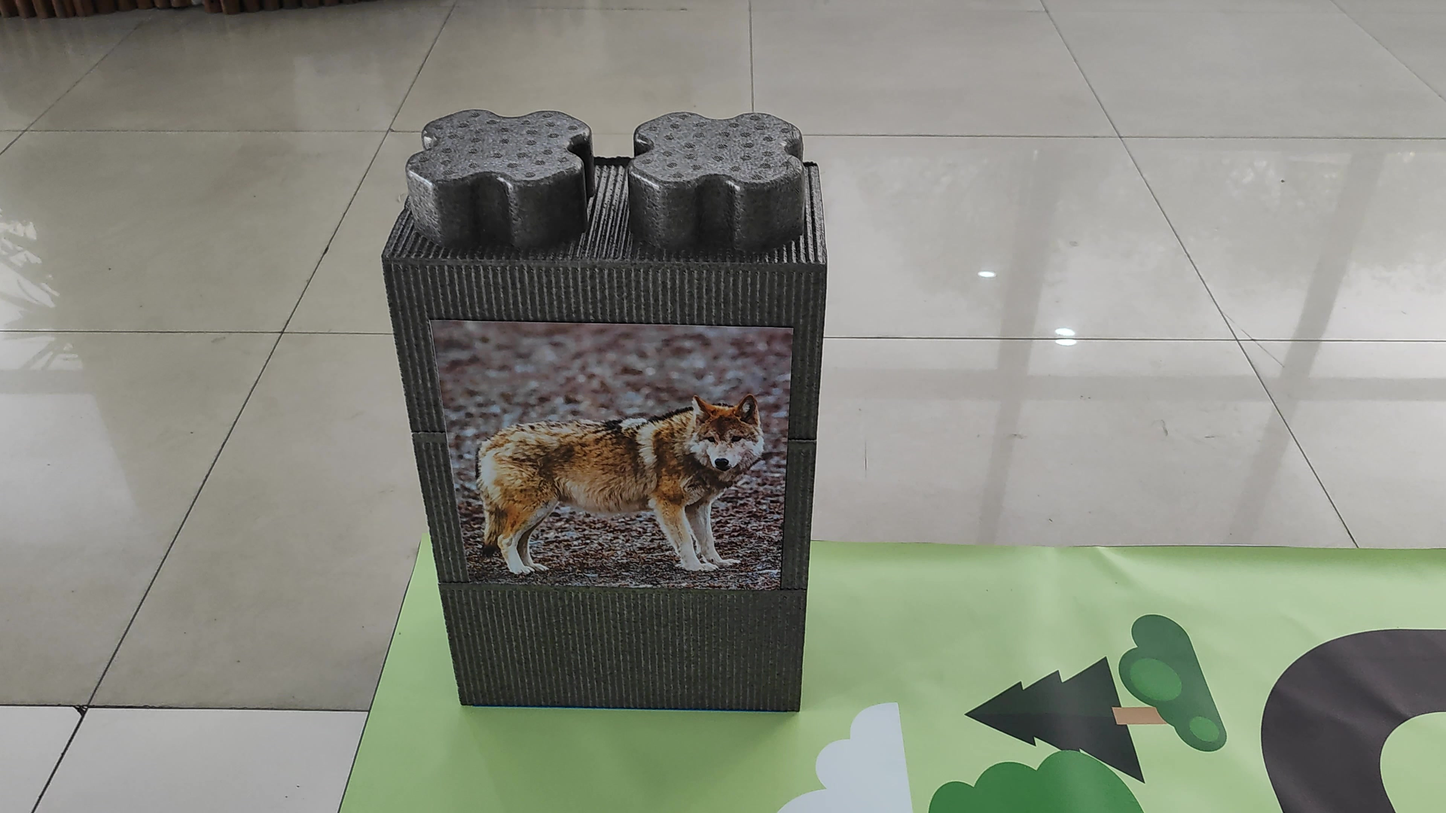wolf: (452, 347, 784, 592)
